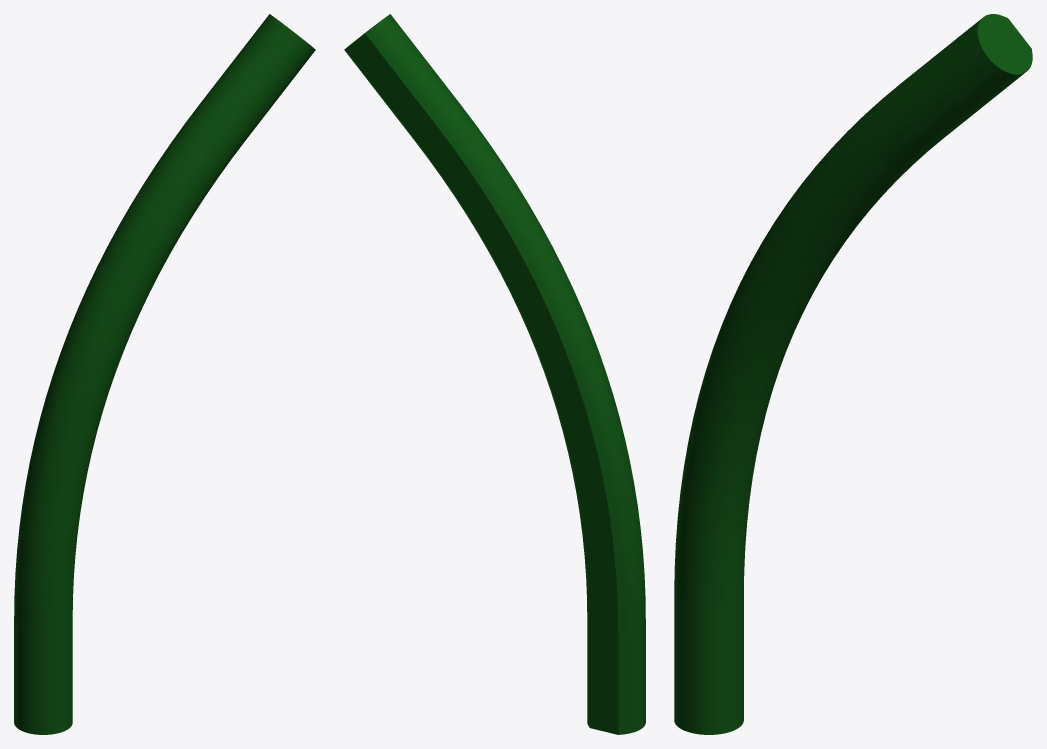
File: stem_3B_45_R.glb
3 views of the same model, side by side, from view 1: azimuth 30°, elevation 25°; view 2: azimuth 150°, elevation 25°; view 3: azimuth 330°, elevation 25° (orthographic). The views are drawn at different scales.
Visible parts, largest first — view 1: stem_3B_45_R; view 2: stem_3B_45_R; view 3: stem_3B_45_R.
Part boxes in pixels (x1=…): stem_3B_45_R: x1=14, y1=14, x2=315, y2=734; stem_3B_45_R: x1=344, y1=14, x2=645, y2=734; stem_3B_45_R: x1=674, y1=14, x2=1032, y2=734.
Bounding box in the file's own units: 0.0415 × 0.0879 × 0.00666.
